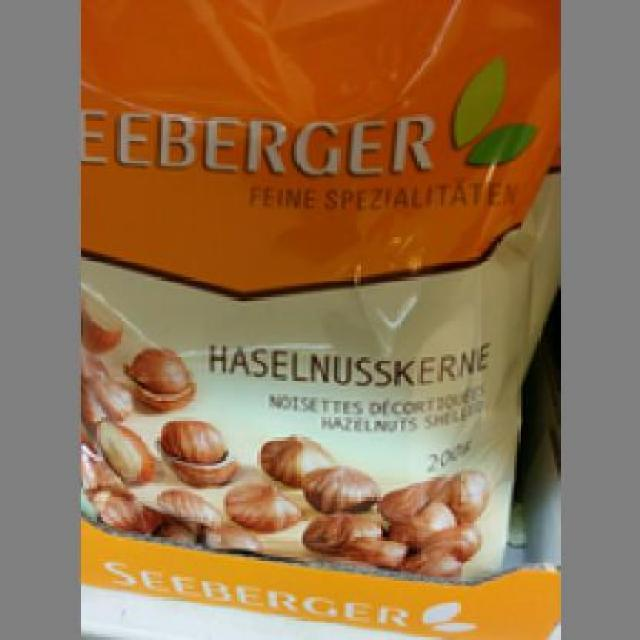Nuts: (76, 0, 558, 575)
